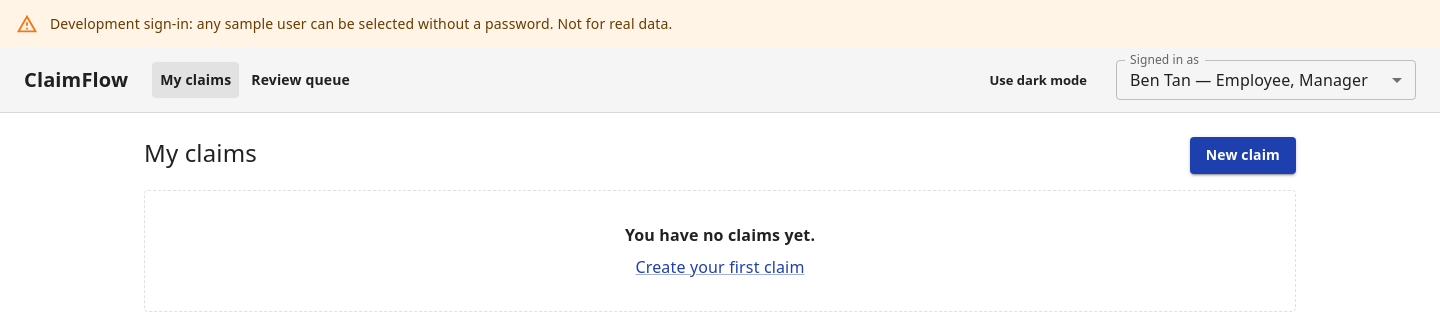
Test case: application shell › moves focus to the main content after navigating, not on first load
This screenshot has width=1440, height=329.
Expected: the heading "My claims" is shown, left=144, top=137, right=257, bottom=169
Click the link "Review queue": (301, 79) left=251, top=70, right=350, bottom=89
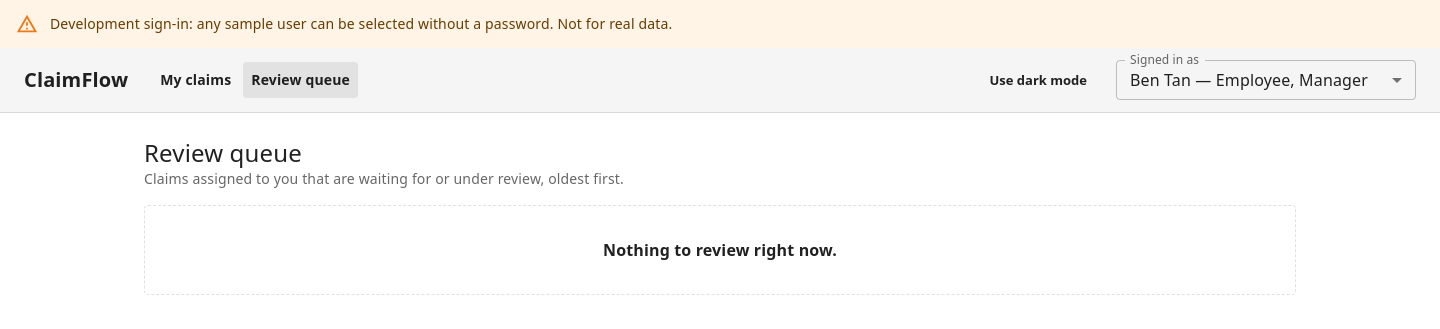
Result: the heading "Review queue" is shown at left=144, top=137, right=302, bottom=169
